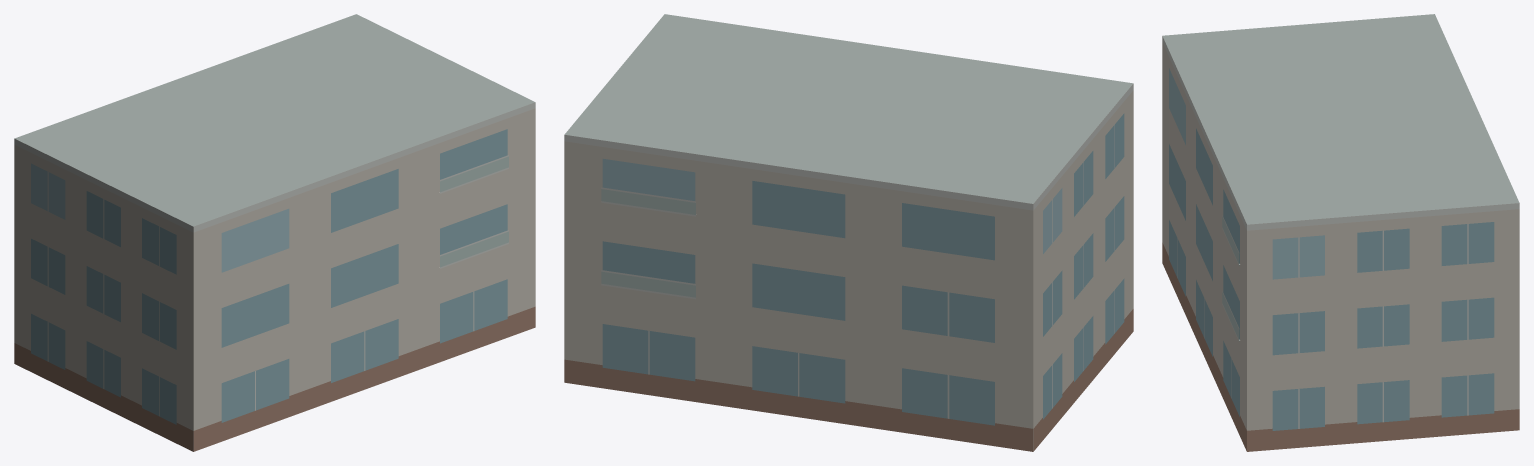
File: survey-upis-32799478.glb
3 views of the same model, side by side, from view 1: azimuth 30°, elevation 25°; view 2: azimuth 150°, elevation 25°; view 3: azimuth 270°, elevation 25° (orthographic). The views are drawn at different scales.
Visible parts, largest first — view 1: survey-upis-32799478.tmp; view 2: survey-upis-32799478.tmp; view 3: survey-upis-32799478.tmp.
Boxes of the visible parts, box(x1,y1,x2,y2) form: survey-upis-32799478.tmp: box(14, 14, 535, 451); survey-upis-32799478.tmp: box(564, 14, 1133, 451); survey-upis-32799478.tmp: box(1162, 14, 1519, 451).
Bounding box in the file's own units: 18.21 × 9.15 × 13.05.
